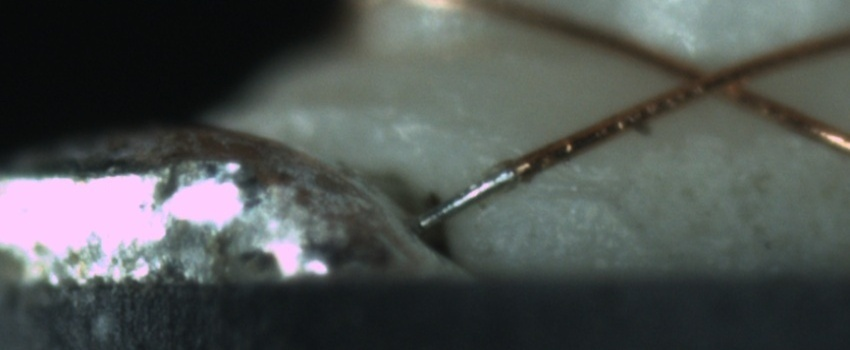CL: (664, 45, 760, 108)
DL: (495, 161, 609, 219)
TS: (419, 163, 521, 229)
